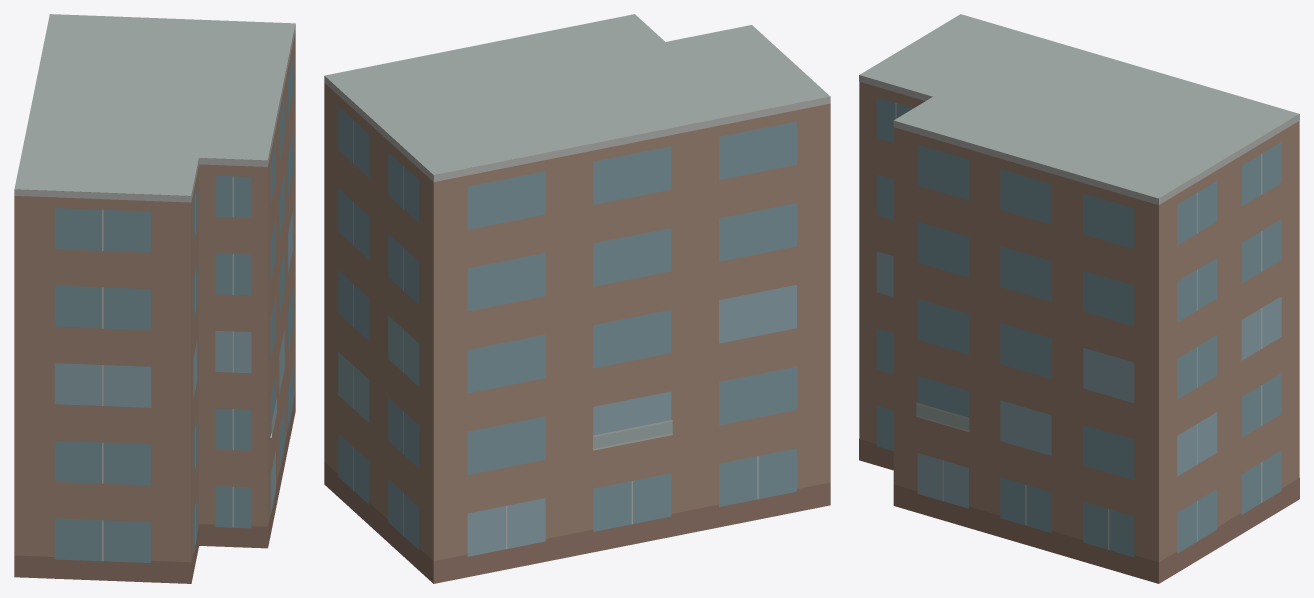
Rendered from survey-upis-33031640.glb.
3 views of the same model, side by side, from view 1: azimuth 30°, elevation 25°; view 2: azimuth 150°, elevation 25°; view 3: azimuth 270°, elevation 25° (orthographic). The views are drawn at different scales.
Parts seen in each view (by area): view 1: survey-upis-33031640.tmp; view 2: survey-upis-33031640.tmp; view 3: survey-upis-33031640.tmp.
Boxes of the visible parts, x1,y1,x2,y2 form: survey-upis-33031640.tmp: [14, 14, 295, 583]; survey-upis-33031640.tmp: [324, 14, 830, 583]; survey-upis-33031640.tmp: [859, 14, 1299, 583].
Bounding box in the file's own units: 14.68 × 14.28 × 14.8.
